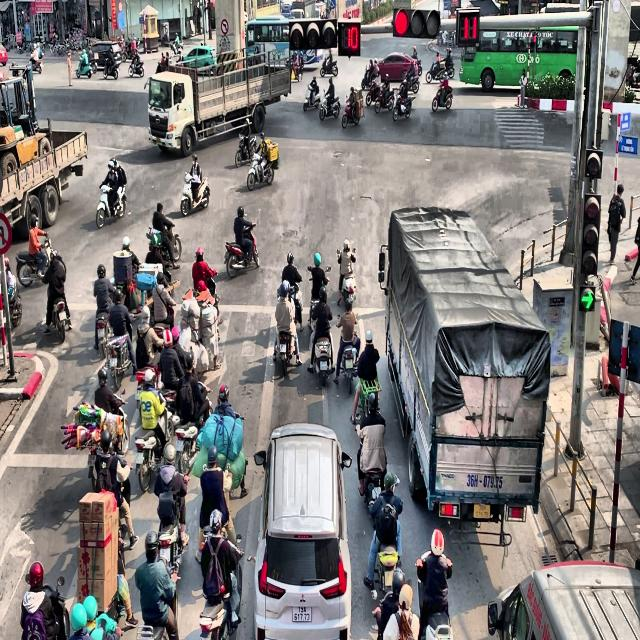CAR: (250, 422, 353, 640), (487, 559, 640, 639), (175, 44, 217, 76), (376, 52, 418, 82)
MOTORBIKE: (75, 402, 130, 481), (199, 547, 244, 639), (134, 406, 179, 492), (173, 397, 212, 476), (136, 578, 180, 639), (156, 492, 186, 578), (15, 233, 56, 287), (358, 442, 388, 507), (224, 223, 259, 278), (105, 330, 134, 390), (310, 318, 334, 386), (337, 326, 361, 394), (146, 224, 181, 268), (307, 266, 331, 330), (95, 182, 126, 228), (273, 320, 298, 376), (180, 172, 210, 216), (247, 150, 274, 190), (51, 299, 71, 343), (95, 311, 112, 358), (235, 132, 257, 167), (318, 89, 341, 121), (341, 95, 360, 128), (432, 82, 452, 112), (392, 91, 412, 121), (340, 272, 356, 308), (399, 67, 420, 94), (374, 85, 394, 113), (76, 51, 96, 78), (426, 59, 448, 82), (303, 83, 320, 111), (365, 80, 383, 106), (103, 51, 119, 79), (128, 51, 144, 77), (320, 58, 338, 77), (30, 52, 44, 74), (290, 59, 302, 82), (410, 57, 422, 76)
TRAFFIC_LIGHT: (581, 192, 601, 276), (392, 7, 441, 38), (455, 7, 480, 45), (338, 21, 361, 56), (584, 148, 602, 179)
TRUCK: (378, 205, 551, 544), (145, 44, 291, 158)
